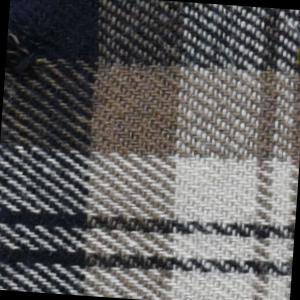Damage: (5, 11, 49, 94)
Stain: (289, 31, 300, 78)
